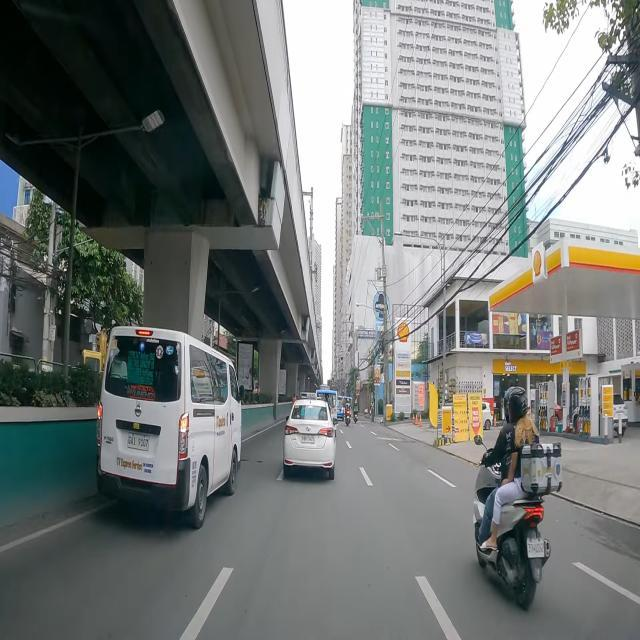car: (99, 323, 242, 530), (284, 398, 335, 482), (610, 394, 628, 437)
motorcycle: (473, 386, 562, 610), (344, 398, 352, 426), (352, 398, 358, 423)
tricycle: (316, 390, 338, 426)
